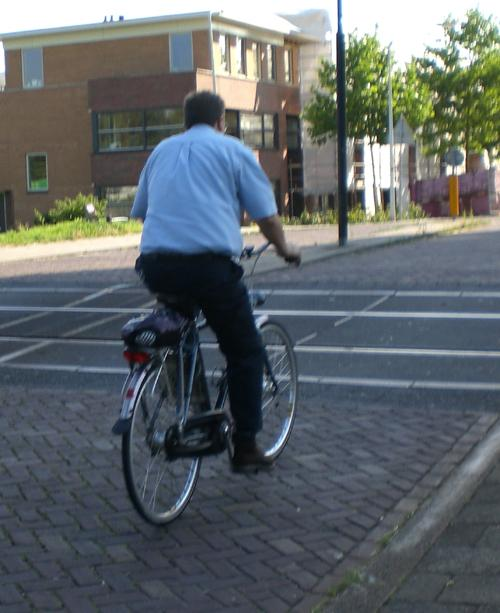person: (132, 89, 303, 475)
